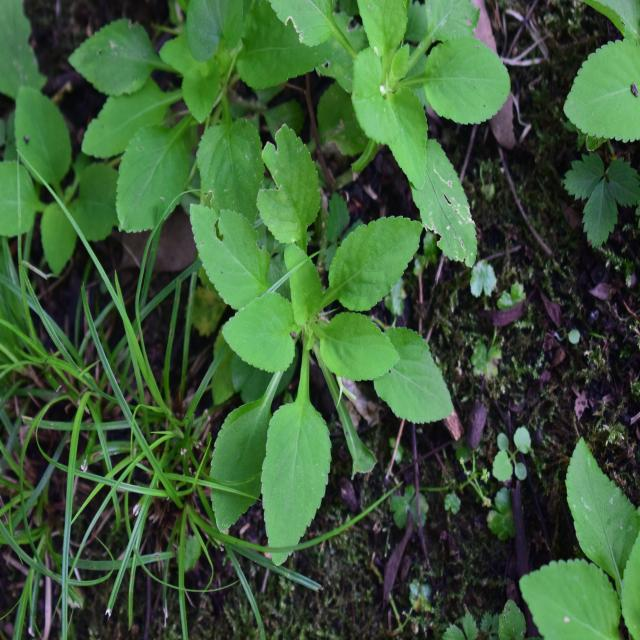Viola: (201, 155, 446, 521), (306, 0, 506, 241)
